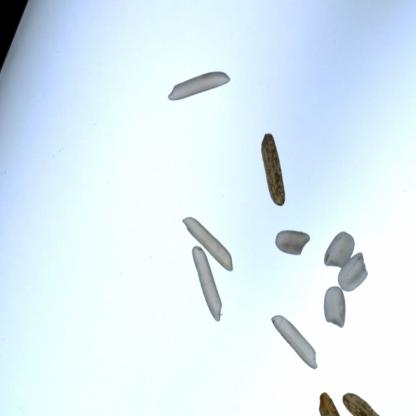Full: (162, 52, 230, 136), (244, 135, 306, 212), (182, 250, 240, 327), (176, 219, 245, 280), (264, 313, 326, 372), (273, 228, 319, 270), (318, 286, 357, 330), (338, 251, 372, 301), (346, 380, 392, 415), (323, 224, 355, 272), (316, 394, 346, 416)
